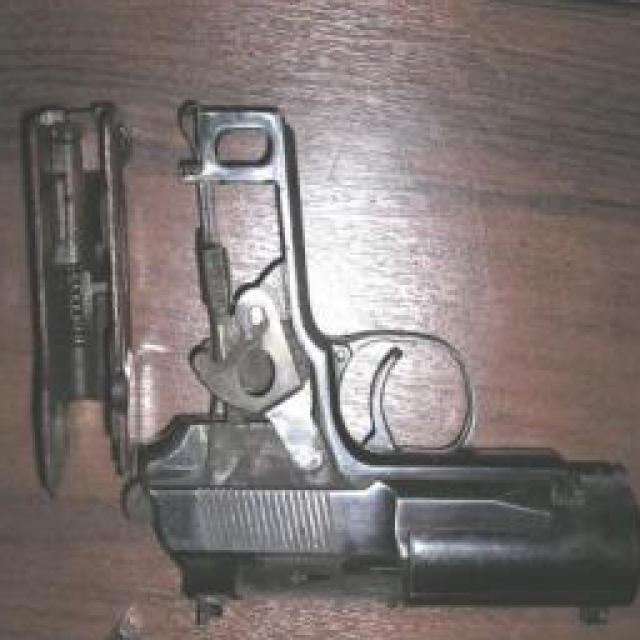pistol: (137, 108, 640, 625)
